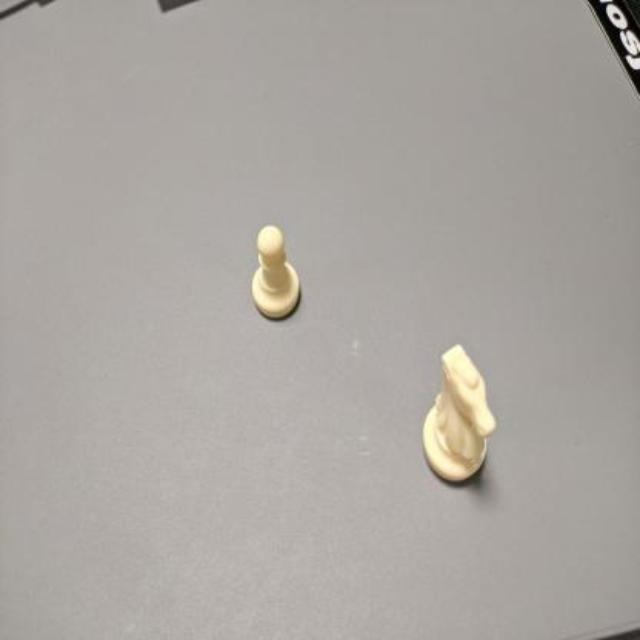white-knight: (420, 345, 496, 483)
white-pawn: (250, 222, 302, 322)
